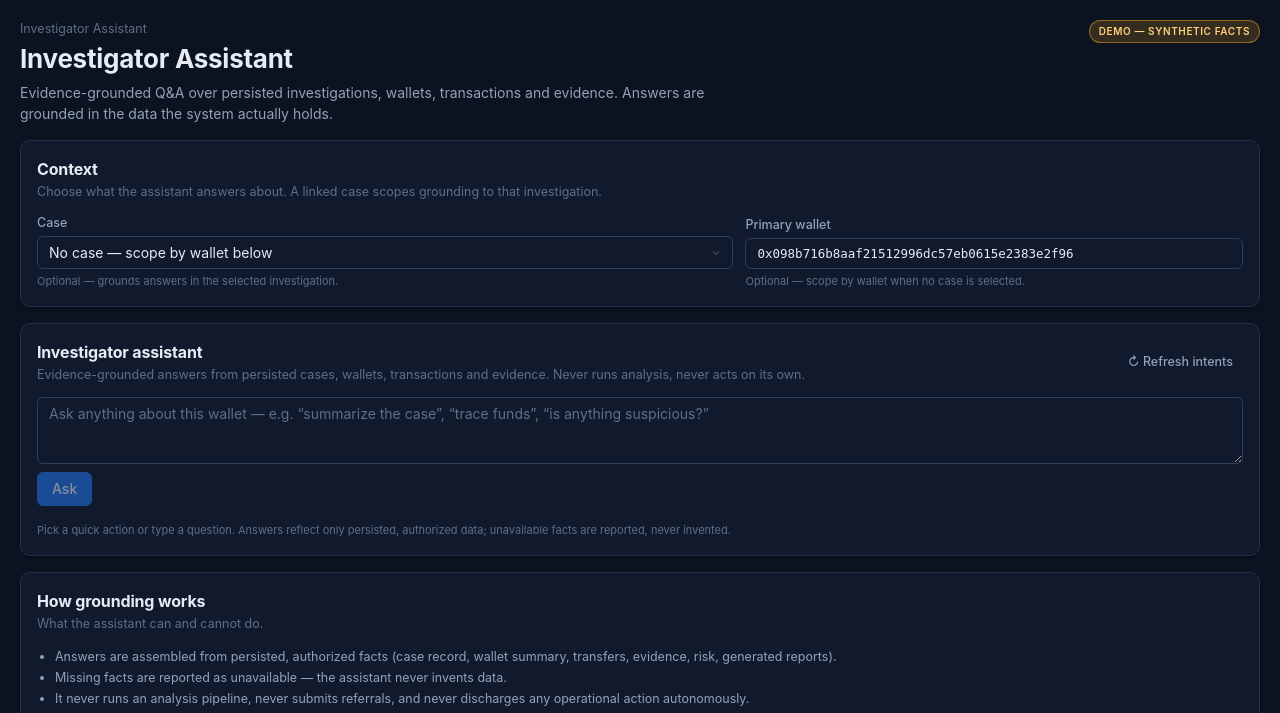
6/7. Investigator Assistant is present in navigation and opens › opens and answers from a question
Type "review anything suspicious?" into the text box named "Assistant question" at {"x": 640, "y": 430}, box [37,396,1243,464]
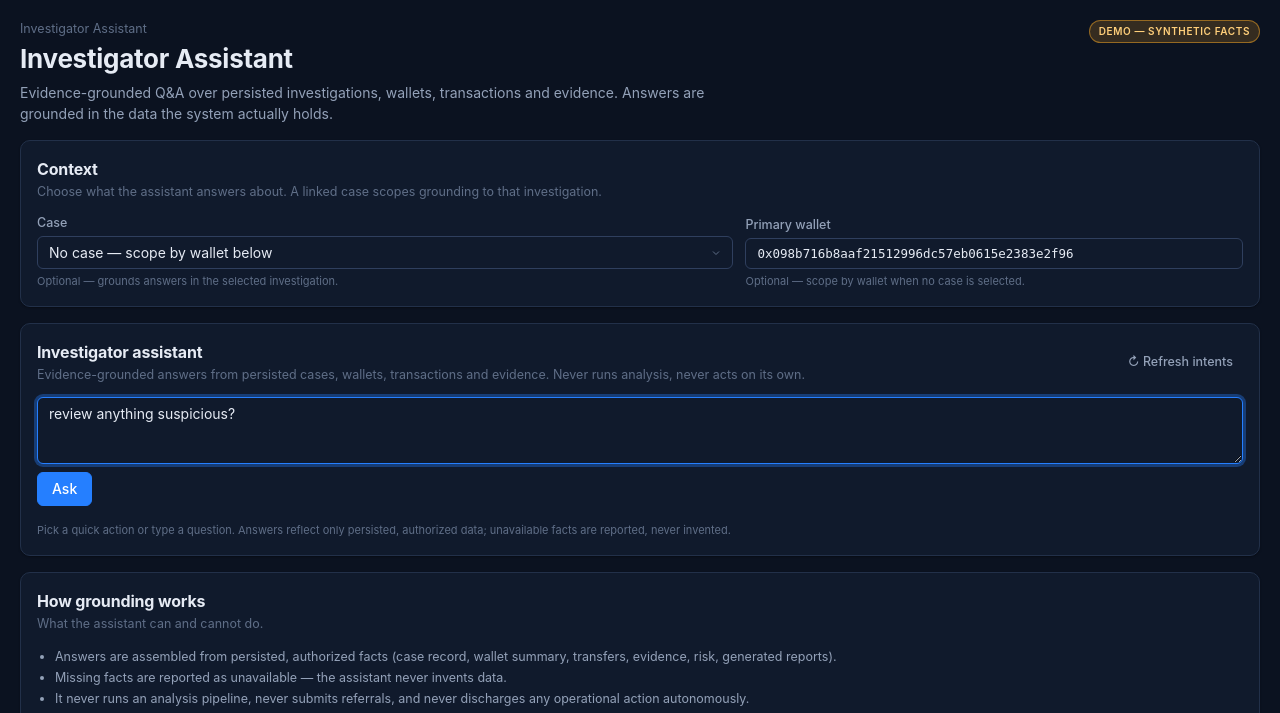
Click the button "Ask" at {"x": 65, "y": 489}, box [37,472,92,506]
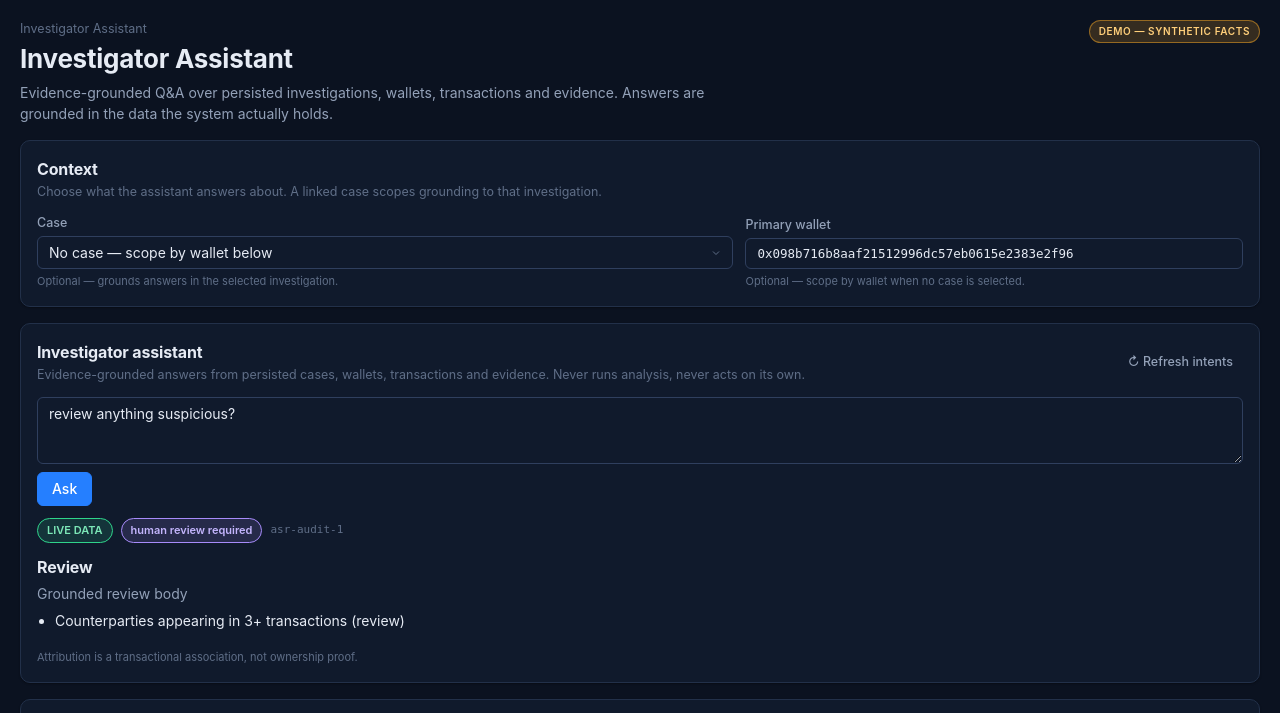
Now the text "Grounded review body" is shown, box [37,585,188,602]
